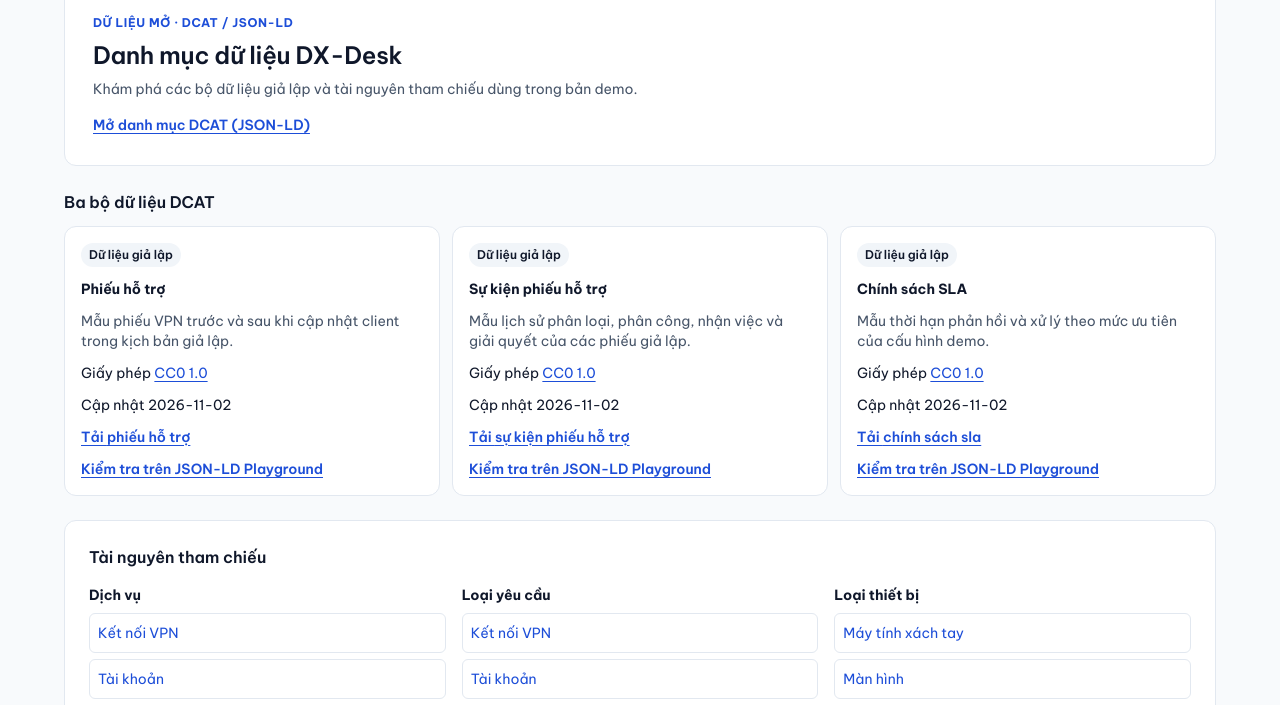
Danh mục dữ liệu công khai › shows formatted JSON-LD, copies a stable URI and passes the document to Playground
The width and height of the screenshot is (1280, 705).
Step 1. Click the button "Kết nối VPN" below "Dịch vụ" → (138, 633), box x1=89 y1=613 x2=446 y2=653
(page scrolled)
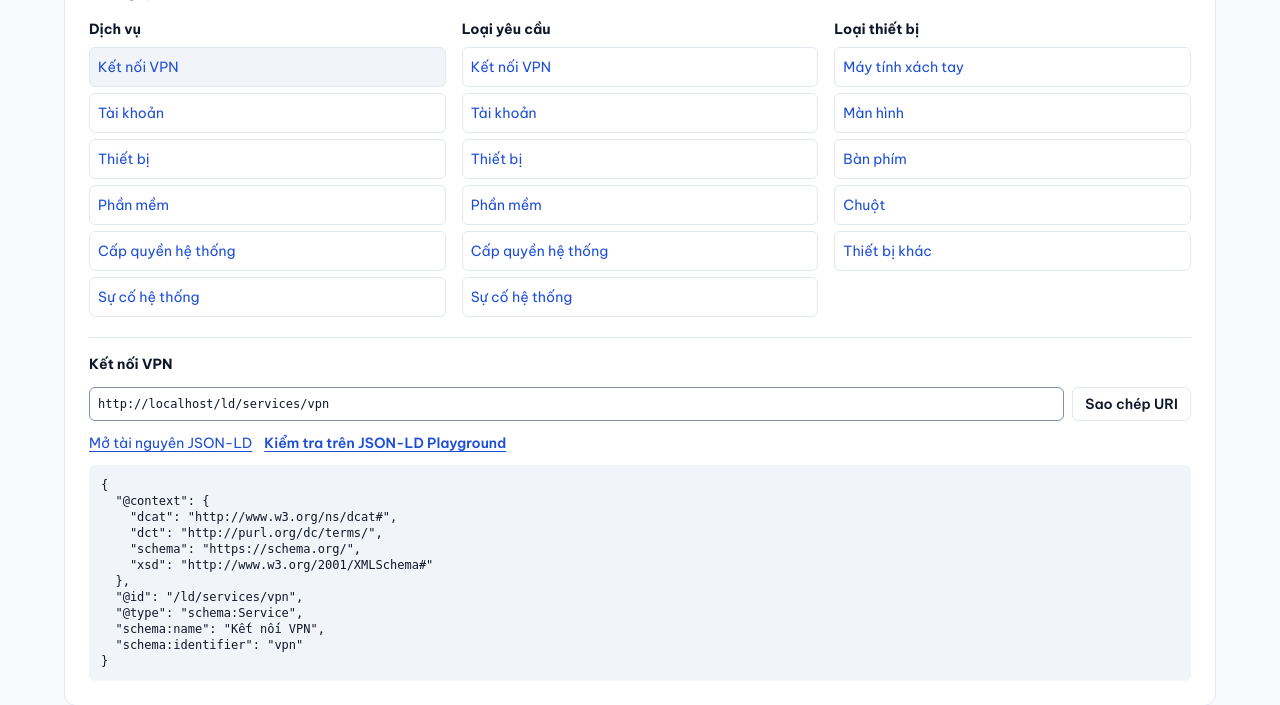
Check: the text "\"schema:identifier\": \"vpn\"" is shown, box x1=101 y1=478 x2=433 y2=668
Step 2. Click the button "Sao chép URI" → (1132, 404), box x1=1072 y1=387 x2=1191 y2=421
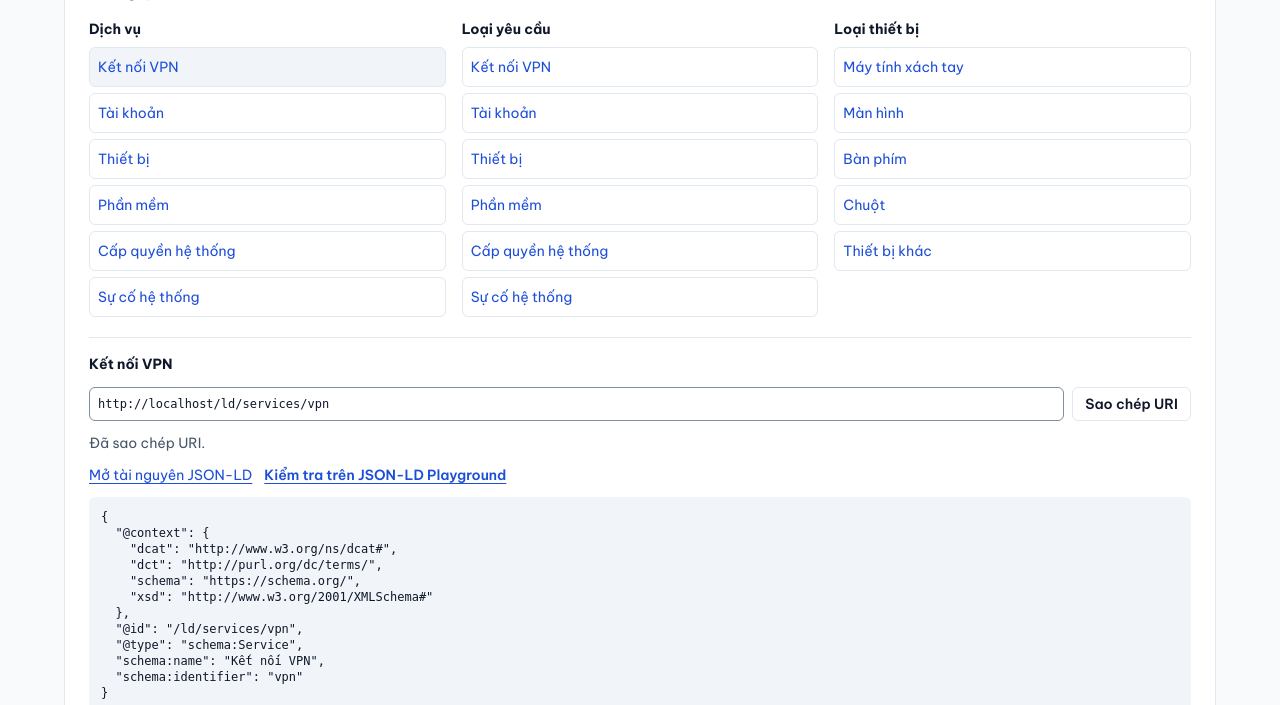
Check: the text "Đã sao chép URI." is shown, box x1=89 y1=434 x2=205 y2=452
